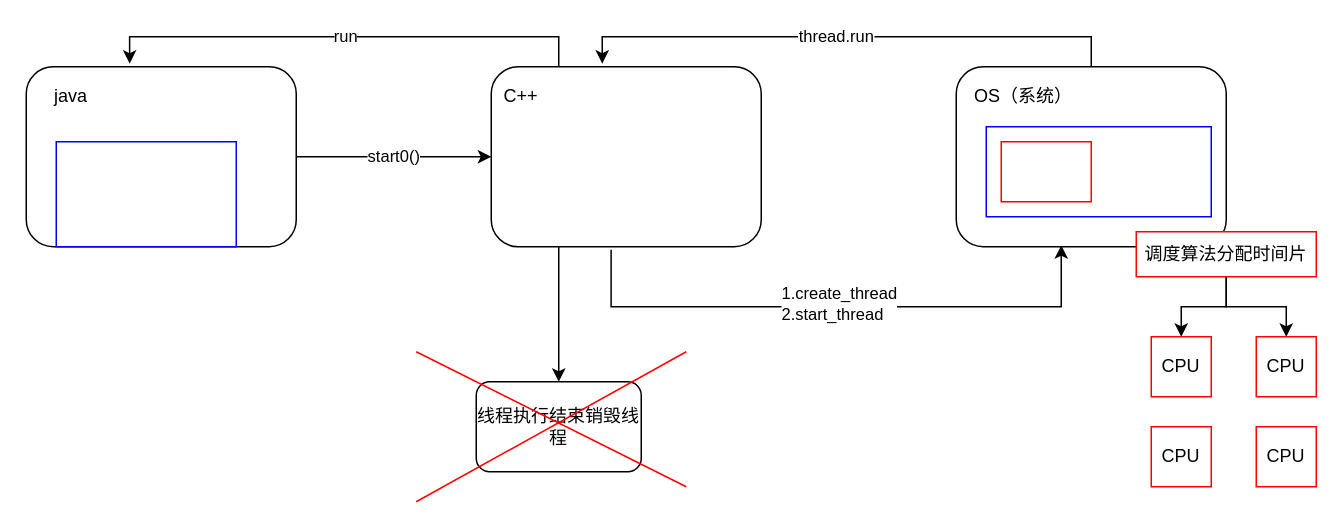
Some shapes in this 1343 by 530 pixel diagram are drawn without their labels. Here are the shapes that lost their labels. From the top down, the box of each, then its label:
(490, 65, 761, 247): JVM
(1000, 140, 1091, 202): thread
(55, 140, 236, 247): new Thread(()->{ }).start();
